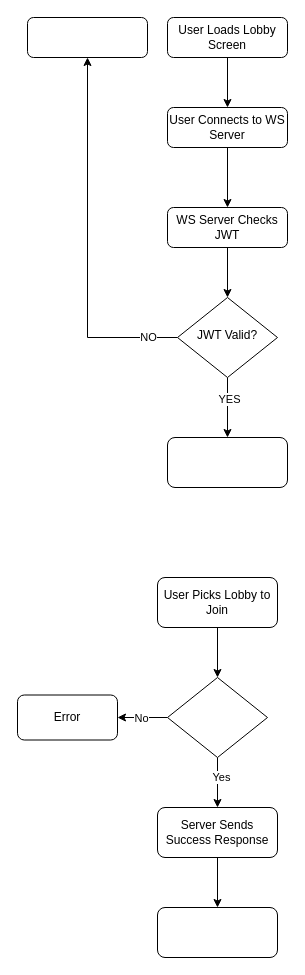
This 305x975 diagram has some shape labels left out. Each missing label, with the box of its shape:
Lobby Exists?: (166, 676, 268, 758)
Server Sends Lobby Names and Global Chat Messages: (166, 436, 288, 488)
Server Sends Update to all connected Clients: (156, 906, 278, 958)
User is redirected to Logn Page: (26, 16, 148, 58)
